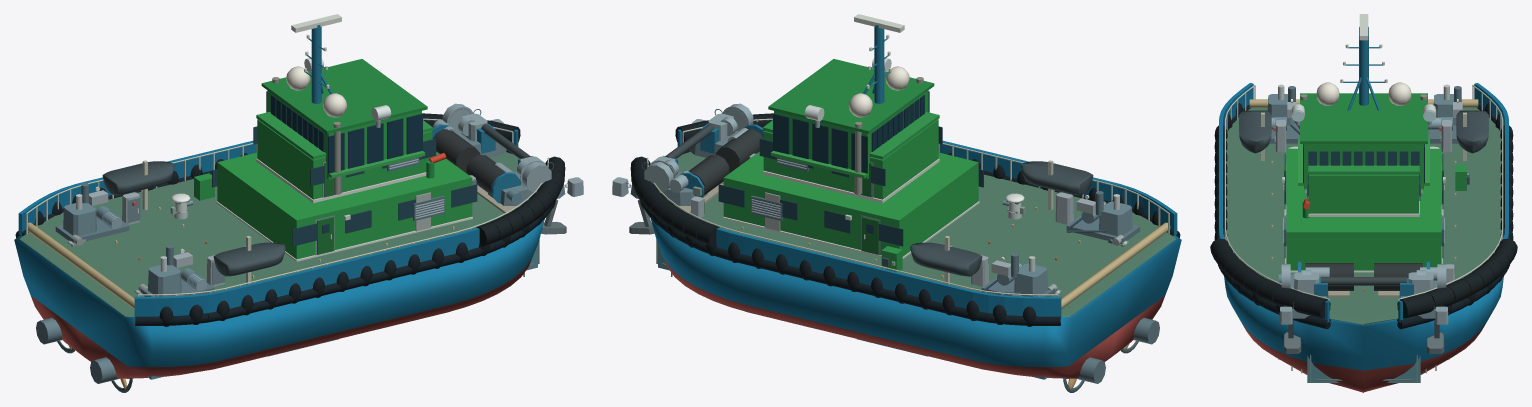
File: sparky.lod0.glb
3 views of the same model, side by side, from view 1: azimuth 30°, elevation 25°; view 2: azimuth 150°, elevation 25°; view 3: azimuth 270°, elevation 25° (orthographic). The views are drawn at different scales.
Visible parts, largest first — view 1: sparky.structure.hull.outer-hull-shell.1, sparky.structure.decks.main-strength-deck.1, sparky.accommodation.superstructure.deck-1-enclosure.1, sparky.navigation.bridge.wheelhouse-roof-visor.1, sparky.structure.hull.antifouling-underwater-shell.1, sparky.accommodation.superstructure.deck-2-enclosure.1, sparky.safety.survival-craft.inflatable-rescue-boat-starboar, sparky.safety.survival-craft.inflatable-rescue-boat-port-1.1, sparky.cargo.port-tow-winch-hydraulic-station.port-tow-winch (×2), sparky.navigation.bridge.wheelhouse.1, sparky.cargo.working-deck.stern-roller.1, sparky.cargo.working-deck.port-mission-winch-drum.1 (+17 smaller); view 2: sparky.structure.hull.outer-hull-shell.1, sparky.structure.decks.main-strength-deck.1, sparky.accommodation.superstructure.deck-1-enclosure.1, sparky.navigation.bridge.wheelhouse-roof-visor.1, sparky.structure.hull.antifouling-underwater-shell.1, sparky.accommodation.superstructure.deck-2-enclosure.1, sparky.safety.survival-craft.inflatable-rescue-boat-port-1.1, sparky.safety.survival-craft.inflatable-rescue-boat-starboar, sparky.cargo.starboard-tow-winch-hydraulic-station.starboard (×2), sparky.navigation.bridge.wheelhouse.1, sparky.cargo.working-deck.stern-roller.1, sparky.cargo.working-deck.starboard-mission-winch-drum.1 (+17 smaller); view 3: sparky.structure.decks.main-strength-deck.1, sparky.accommodation.superstructure.deck-1-enclosure.1, sparky.structure.hull.outer-hull-shell.1, sparky.navigation.bridge.wheelhouse-roof-visor.1, sparky.accommodation.superstructure.deck-2-enclosure.1, sparky.structure.hull.antifouling-underwater-shell.1, sparky.navigation.bridge.wheelhouse.1, sparky.safety.survival-craft.inflatable-rescue-boat-port-1.1, sparky.safety.survival-craft.inflatable-rescue-boat-starboar, sparky.accommodation.superstructure.superstructure-weather-d, sparky.cargo.starboard-tow-winch-hydraulic-station.starboard (×2), sparky.cargo.working-deck.port-mission-winch-drum.1 (+29 smaller).
Boxes of the visible parts, box(x1,y1,x2,y2) form: sparky.structure.hull.outer-hull-shell.1: box(14, 153, 544, 366); sparky.structure.decks.main-strength-deck.1: box(20, 152, 519, 316); sparky.accommodation.superstructure.deck-1-enclosure.1: box(217, 151, 472, 259); sparky.navigation.bridge.wheelhouse-roof-visor.1: box(261, 59, 427, 133); sparky.structure.hull.antifouling-underwater-shell.1: box(31, 259, 531, 378); sparky.accommodation.superstructure.deck-2-enclosure.1: box(257, 119, 432, 199); sparky.safety.survival-craft.inflatable-rescue-boat-starboar: box(213, 242, 285, 276); sparky.safety.survival-craft.inflatable-rescue-boat-port-1.1: box(102, 161, 174, 195); sparky.cargo.port-tow-winch-hydraulic-station.port-tow-winch (×2): box(55, 203, 129, 243); sparky.navigation.bridge.wheelhouse.1: box(267, 90, 421, 179); sparky.cargo.working-deck.stern-roller.1: box(25, 222, 134, 308); sparky.cargo.working-deck.port-mission-winch-drum.1: box(433, 129, 480, 173); sparky.structure.hull.outer-hull-shell.1: box(650, 153, 1181, 366); sparky.structure.decks.main-strength-deck.1: box(676, 152, 1175, 316); sparky.accommodation.superstructure.deck-1-enclosure.1: box(723, 151, 978, 256); sparky.navigation.bridge.wheelhouse-roof-visor.1: box(768, 59, 934, 133); sparky.structure.hull.antifouling-underwater-shell.1: box(664, 259, 1164, 378); sparky.accommodation.superstructure.deck-2-enclosure.1: box(763, 119, 938, 199); sparky.safety.survival-craft.inflatable-rescue-boat-port-1.1: box(910, 242, 982, 276); sparky.safety.survival-craft.inflatable-rescue-boat-starboar: box(1021, 161, 1093, 195); sparky.cargo.starboard-tow-winch-hydraulic-station.starboard (×2): box(1066, 201, 1140, 243); sparky.navigation.bridge.wheelhouse.1: box(774, 90, 928, 179); sparky.cargo.working-deck.stern-roller.1: box(1061, 222, 1170, 308); sparky.cargo.working-deck.starboard-mission-winch-drum.1: box(715, 129, 762, 173); sparky.structure.decks.main-strength-deck.1: box(1226, 107, 1501, 324); sparky.accommodation.superstructure.deck-1-enclosure.1: box(1286, 148, 1441, 270); sparky.structure.hull.outer-hull-shell.1: box(1224, 276, 1503, 370); sparky.navigation.bridge.wheelhouse-roof-visor.1: box(1300, 93, 1427, 143); sparky.accommodation.superstructure.deck-2-enclosure.1: box(1309, 174, 1418, 213); sparky.structure.hull.antifouling-underwater-shell.1: box(1242, 323, 1485, 392); sparky.navigation.bridge.wheelhouse.1: box(1304, 144, 1423, 189); sparky.safety.survival-craft.inflatable-rescue-boat-port-1.1: box(1456, 110, 1488, 153); sparky.safety.survival-craft.inflatable-rescue-boat-starboar: box(1239, 110, 1271, 153); sparky.accommodation.superstructure.superstructure-weather-d: box(1308, 165, 1419, 174); sparky.cargo.starboard-tow-winch-hydraulic-station.starboard (×2): box(1267, 94, 1298, 143); sparky.cargo.working-deck.port-mission-winch-drum.1: box(1374, 263, 1422, 290).
Size of the model in its own units: 24.73 by 14.65 by 14.13.
